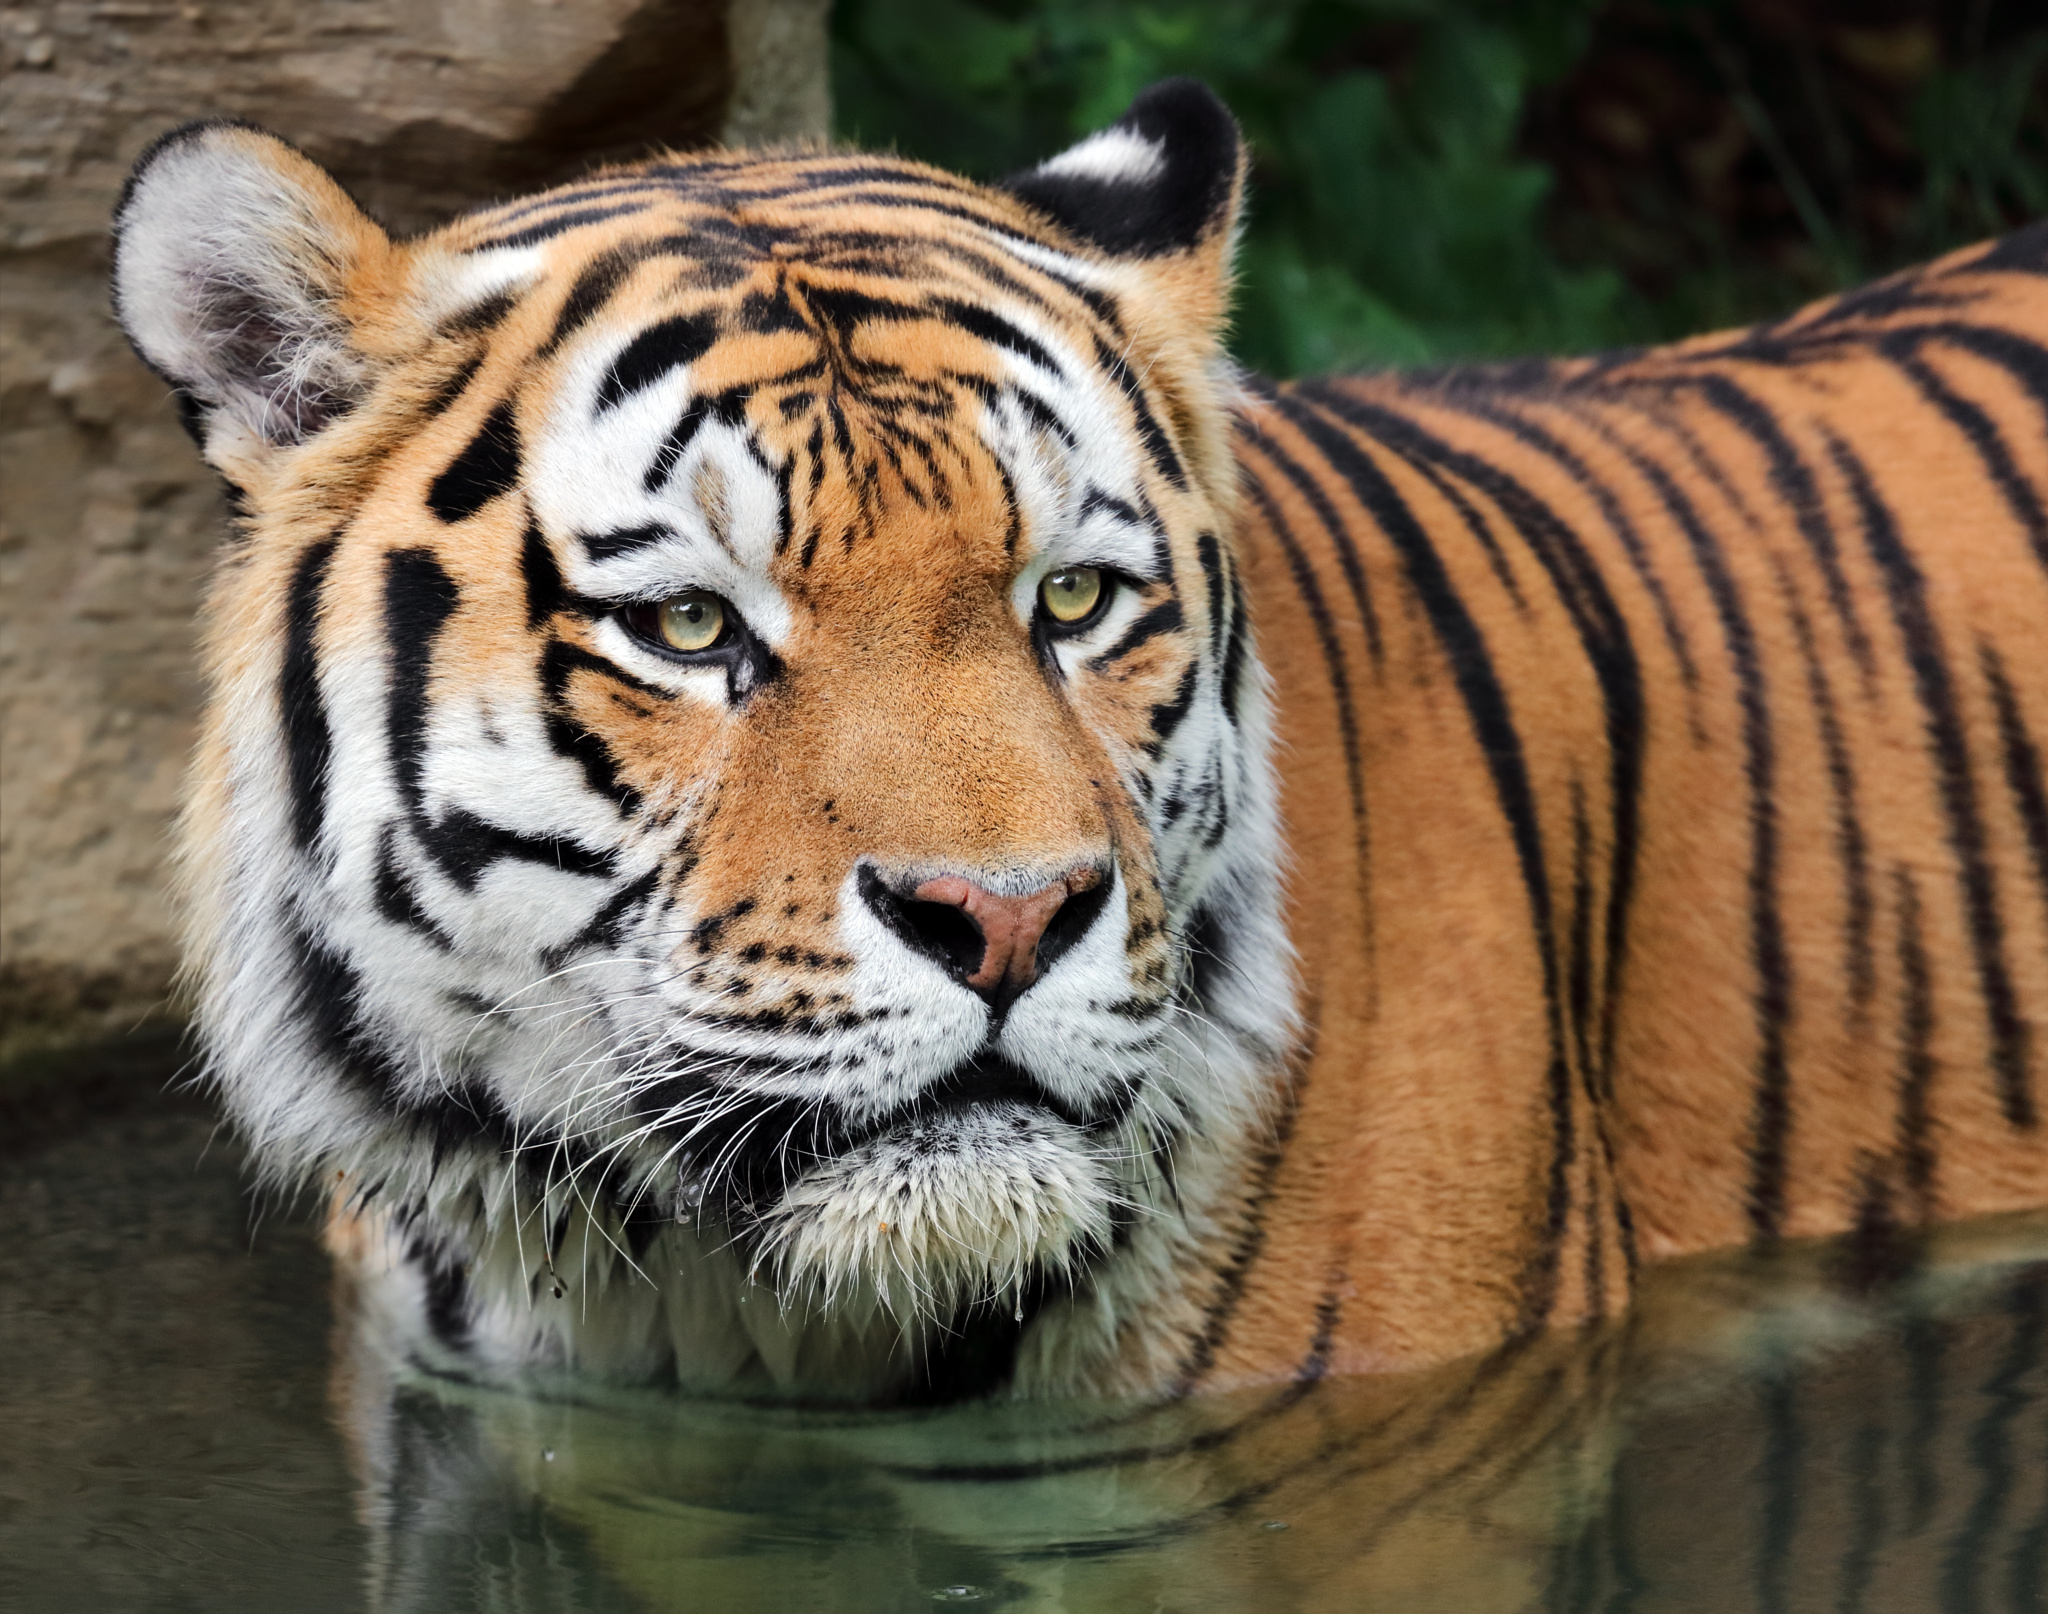tiger: (209, 90, 1905, 1401)
